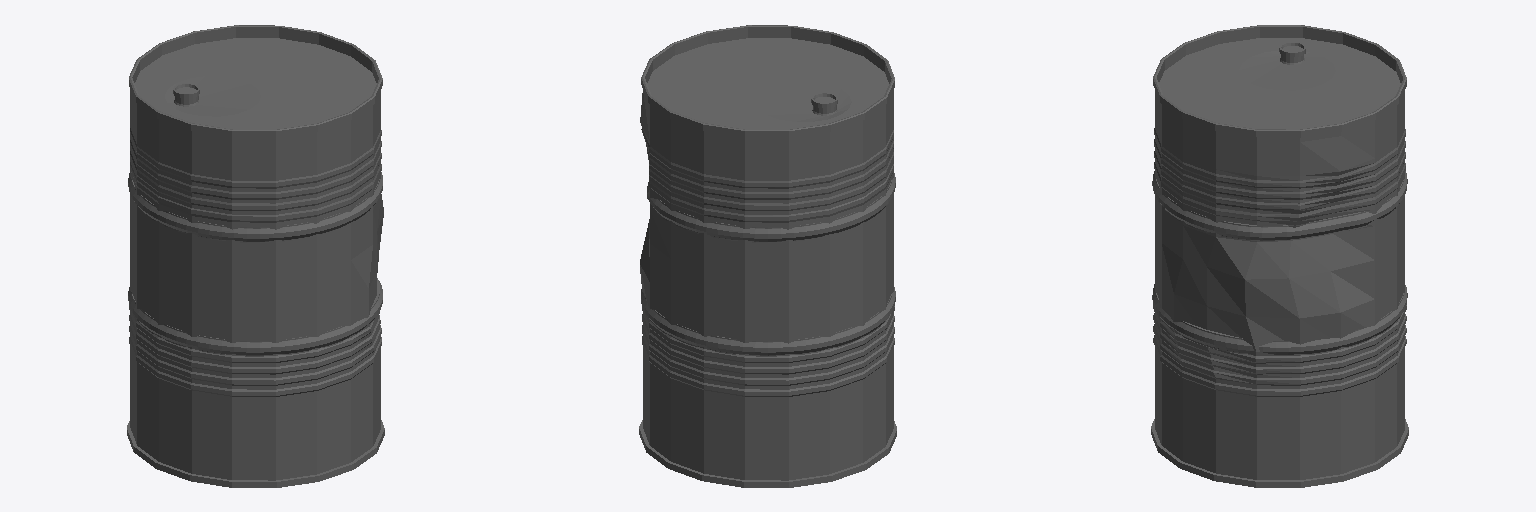
Rendered from barrel.obj.
3 views of the same model, side by side, from view 1: azimuth 30°, elevation 25°; view 2: azimuth 150°, elevation 25°; view 3: azimuth 270°, elevation 25° (orthographic).
Visible parts, largest first — view 1: Cylinder001, Tube003, Tube004; view 2: Cylinder001, Tube004, Tube003; view 3: Cylinder001, Tube003, Tube004.
Part boxes in pixels (x1,y1,x2,y2): Cylinder001: (127, 25, 384, 487); Tube003: (128, 172, 382, 242); Tube004: (128, 278, 382, 356); Cylinder001: (639, 25, 896, 487); Tube004: (641, 287, 895, 356); Tube003: (647, 173, 895, 242); Cylinder001: (1151, 25, 1408, 487); Tube003: (1152, 171, 1407, 241); Tube004: (1152, 284, 1407, 354).
Size of the model in its own units: 615 by 946 by 622.